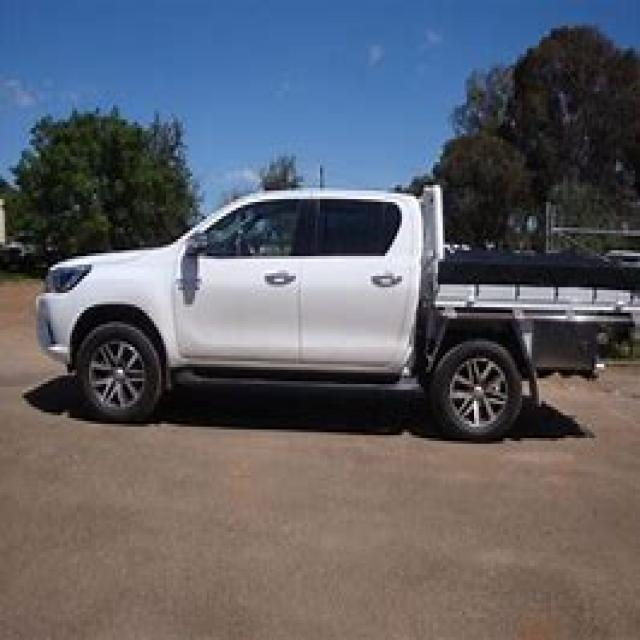light_vehicle: (31, 168, 638, 458)
